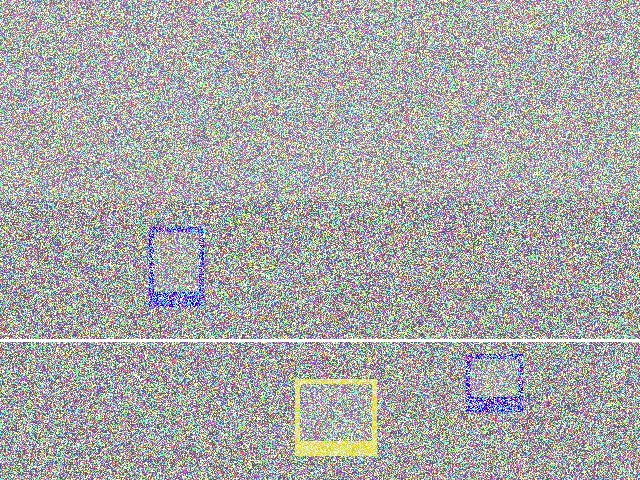truck: (342, 177, 439, 290), (406, 133, 478, 268), (176, 226, 249, 292)
